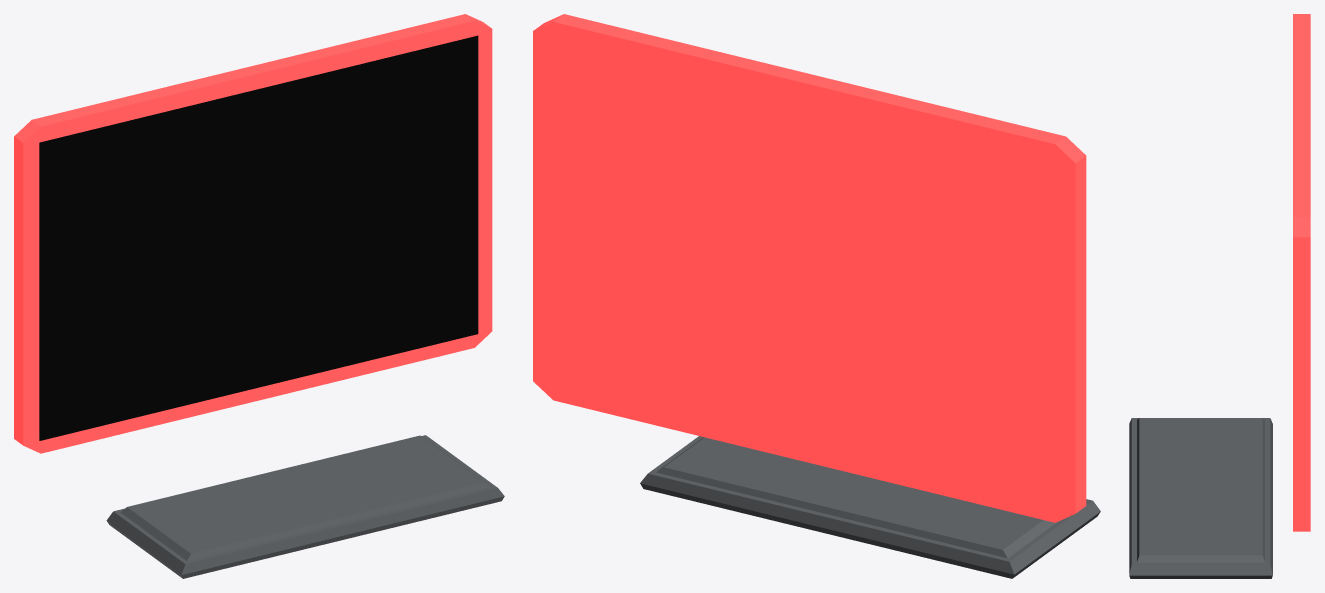
Rendered from computer.glb.
The picture shows the model from 3 angles, left to right: view 1: azimuth 30°, elevation 25°; view 2: azimuth 150°, elevation 25°; view 3: azimuth 270°, elevation 25°; orthographic projection. The views are drawn at different scales.
Parts seen in each view (by area): view 1: computer_screen, computer_frame, computer_keyboard; view 2: computer_frame, computer_keyboard; view 3: computer_keyboard, computer_frame.
Boxes of the visible parts, <box> form: computer_screen: <box>39,35,478,440</box>; computer_frame: <box>14,14,492,453</box>; computer_keyboard: <box>106,435,504,578</box>; computer_frame: <box>533,14,1086,522</box>; computer_keyboard: <box>640,436,1100,578</box>; computer_keyboard: <box>1129,418,1272,578</box>; computer_frame: <box>1293,14,1310,531</box>.
Bounding box in the file's own units: 0.56 × 0.4616 × 0.1954.
